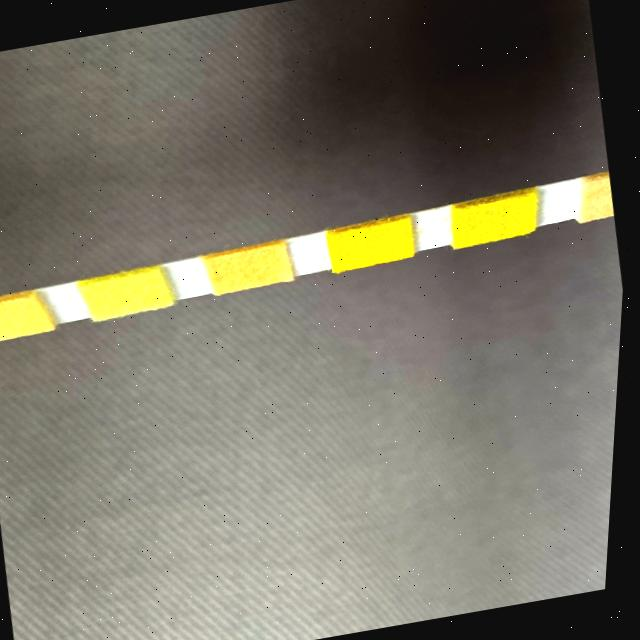Blood: (332, 219, 419, 270)
Ketone: (586, 177, 618, 216)
Protein: (86, 273, 167, 319)
SpGravity: (456, 197, 537, 244)
Urobilinogen: (0, 296, 38, 343)
pH: (213, 243, 294, 293)
